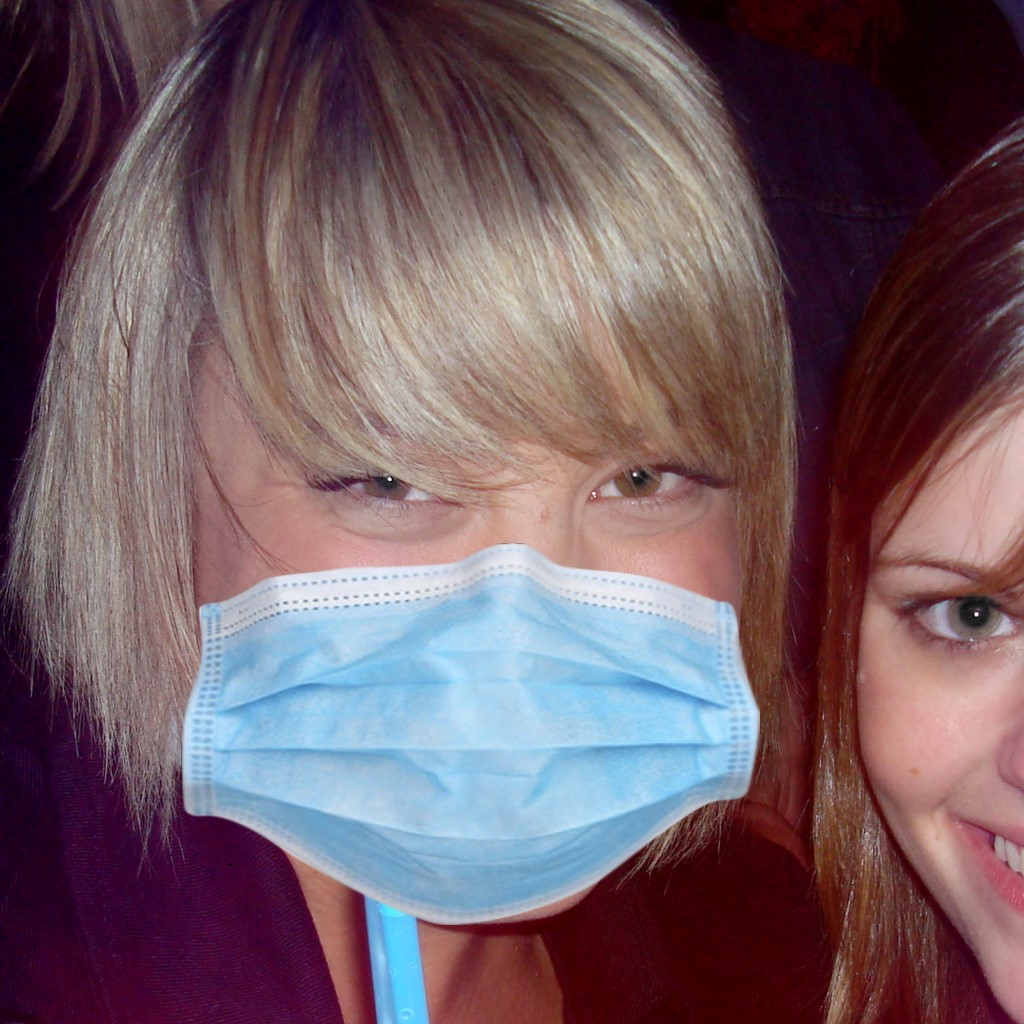con_mascara: (180, 244, 740, 929)
